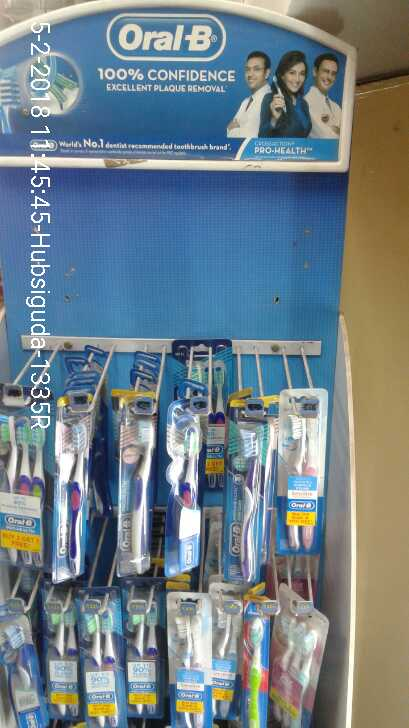oralb: (278, 383, 325, 553), (112, 389, 152, 575), (115, 576, 166, 719), (79, 588, 128, 728), (165, 398, 204, 572), (224, 399, 261, 578), (41, 579, 85, 720), (166, 588, 210, 727), (55, 399, 87, 576)
